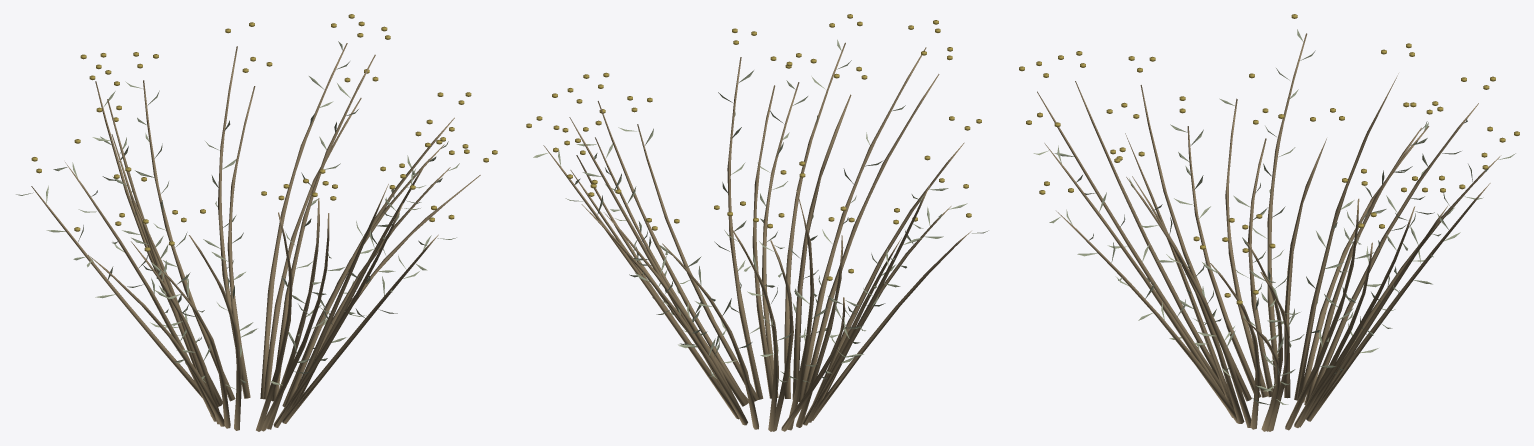
File: Immortelle_1_Niveau1.fbx
3 views of the same model, side by side, from view 1: azimuth 30°, elevation 25°; view 2: azimuth 150°, elevation 25°; view 3: azimuth 270°, elevation 25° (orthographic). The views are drawn at different scales.
Parts seen in each view (by area): view 1: Immortelle_1_Niveau1; view 2: Immortelle_1_Niveau1; view 3: Immortelle_1_Niveau1.
Part boxes in pixels (x1=…): Immortelle_1_Niveau1: x1=16, y1=14, x2=497, y2=431; Immortelle_1_Niveau1: x1=526, y1=14, x2=988, y2=431; Immortelle_1_Niveau1: x1=1019, y1=14, x2=1519, y2=431.
Size of the model in its own units: 58.04 by 41.97 by 58.08.
